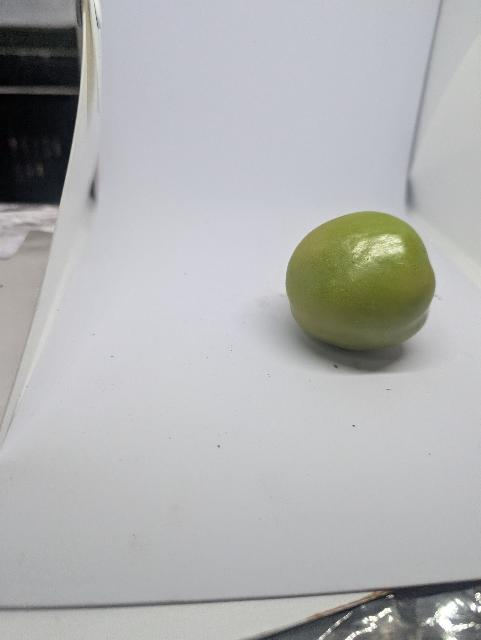green: (284, 210, 437, 356)
